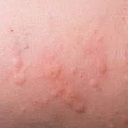Hives: (58, 85, 92, 114), (7, 48, 28, 87)
